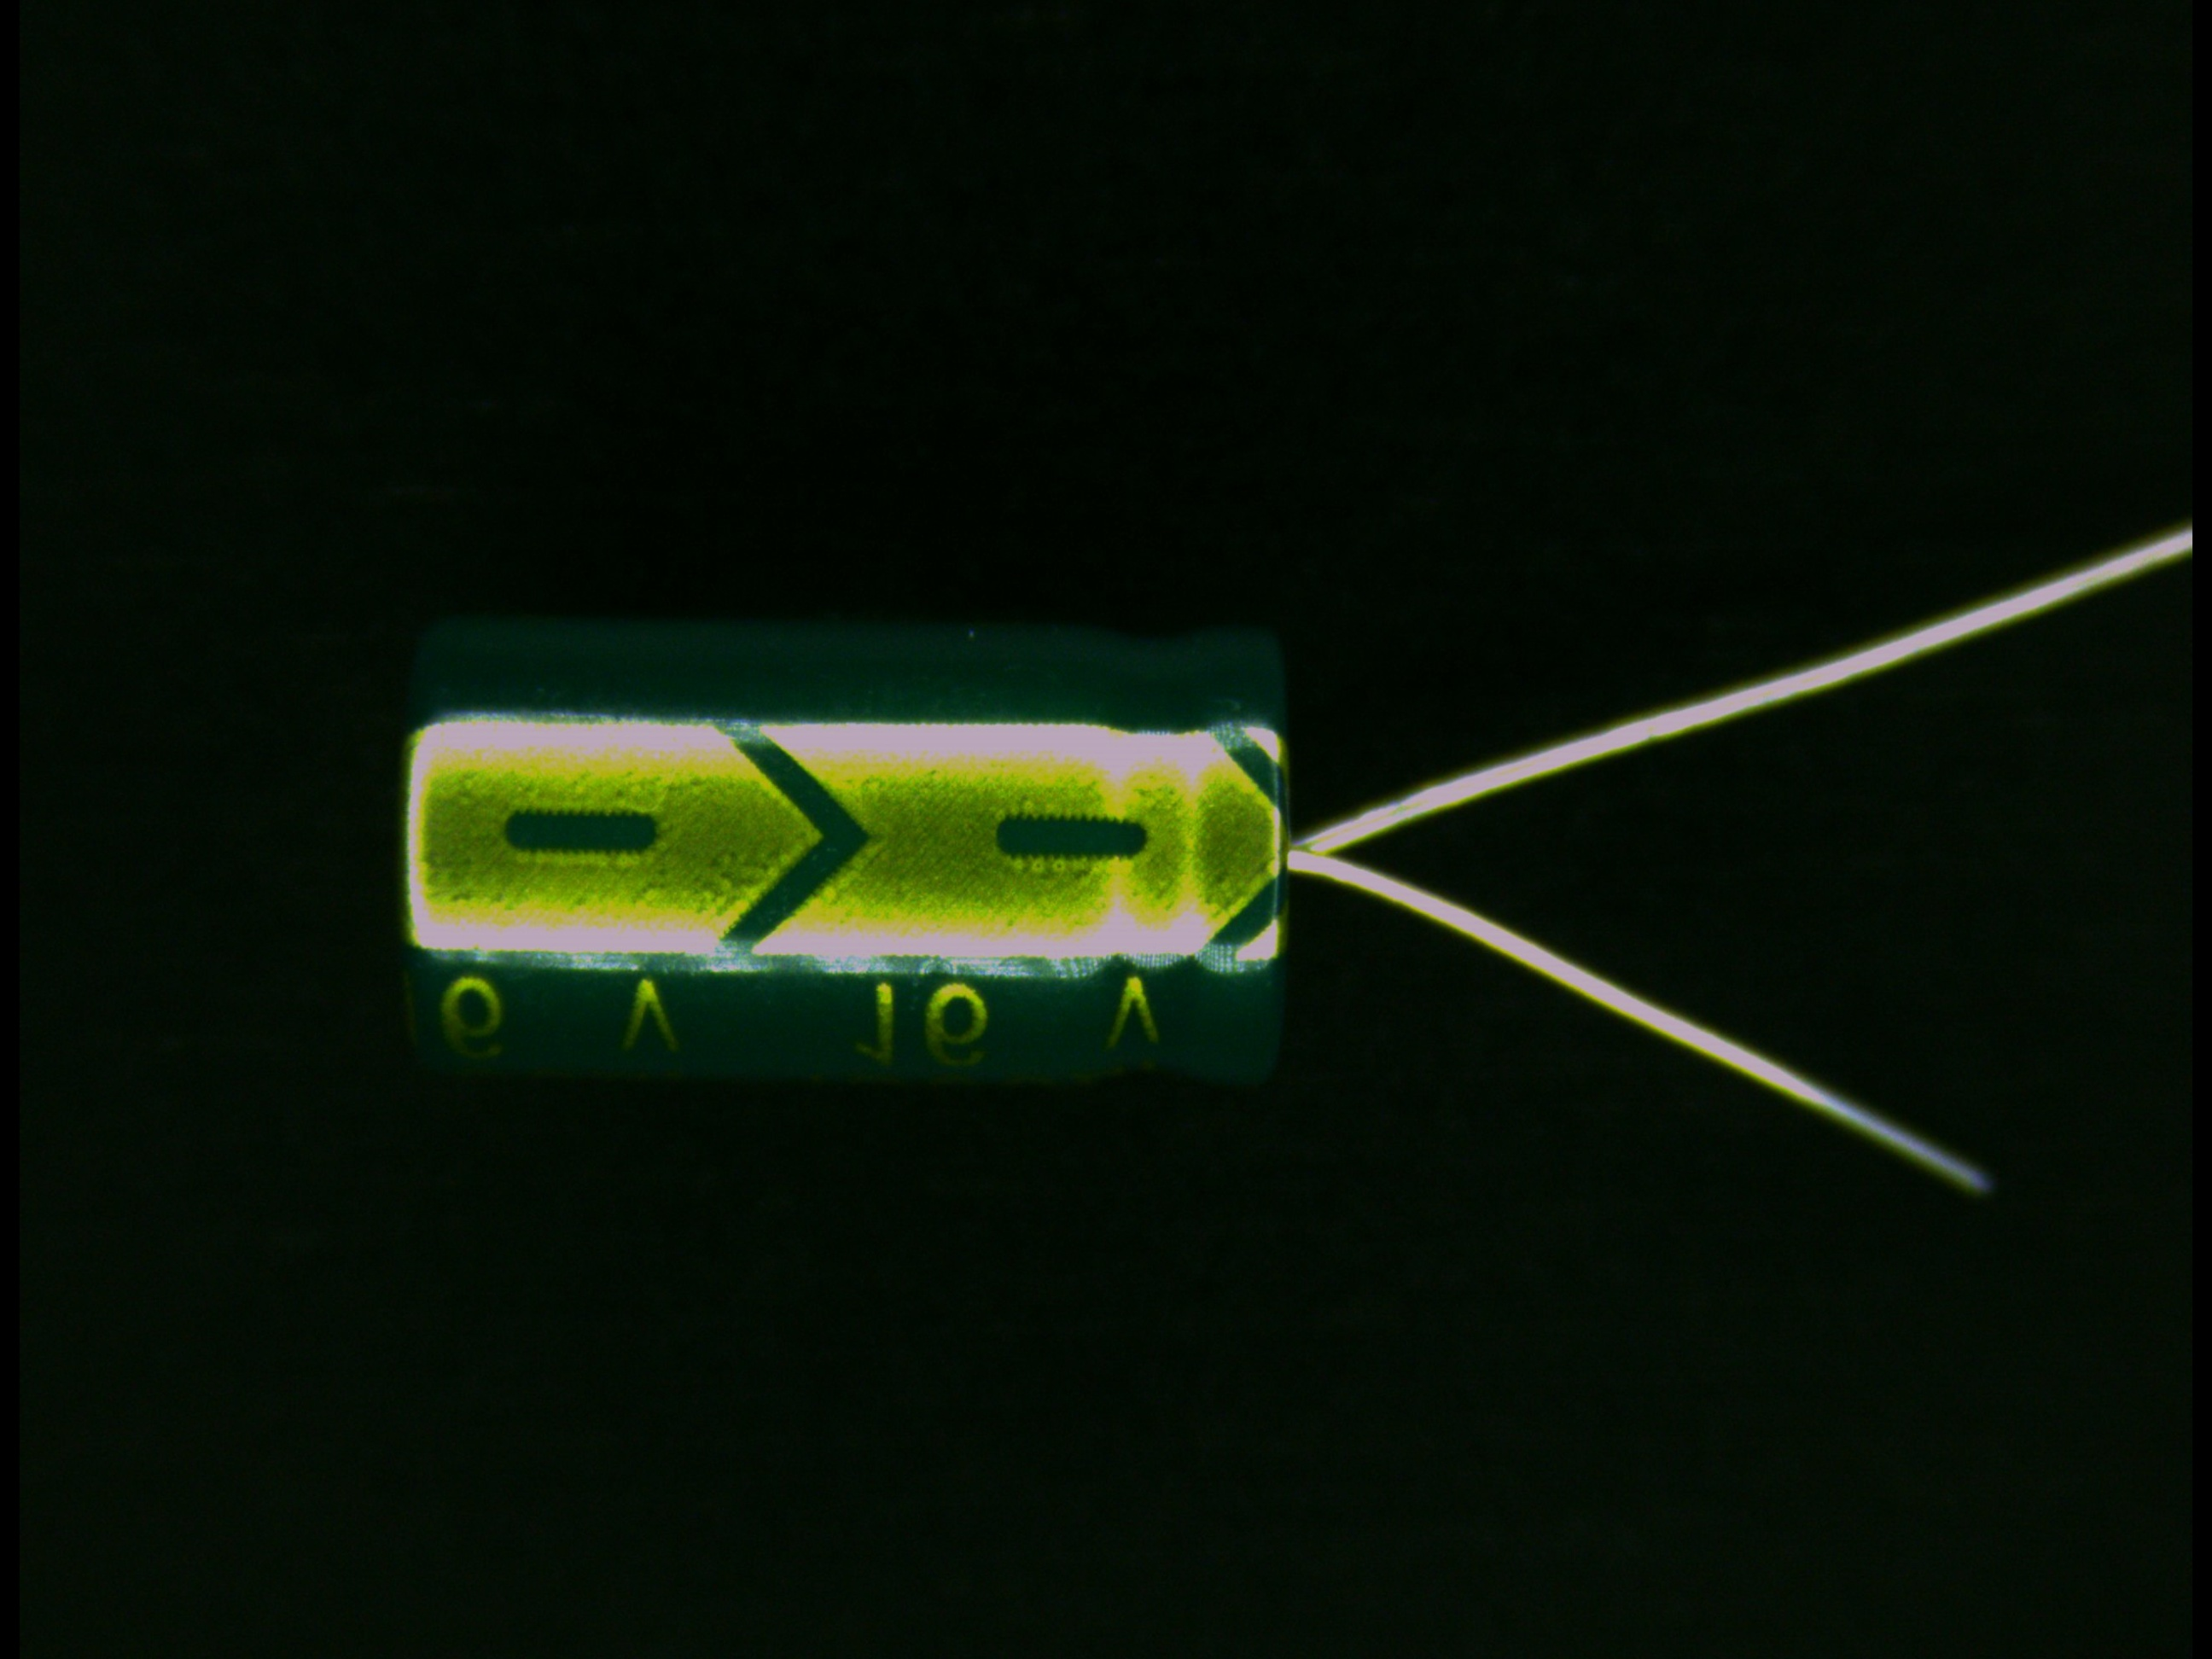c1: (399, 610, 1529, 1093)
